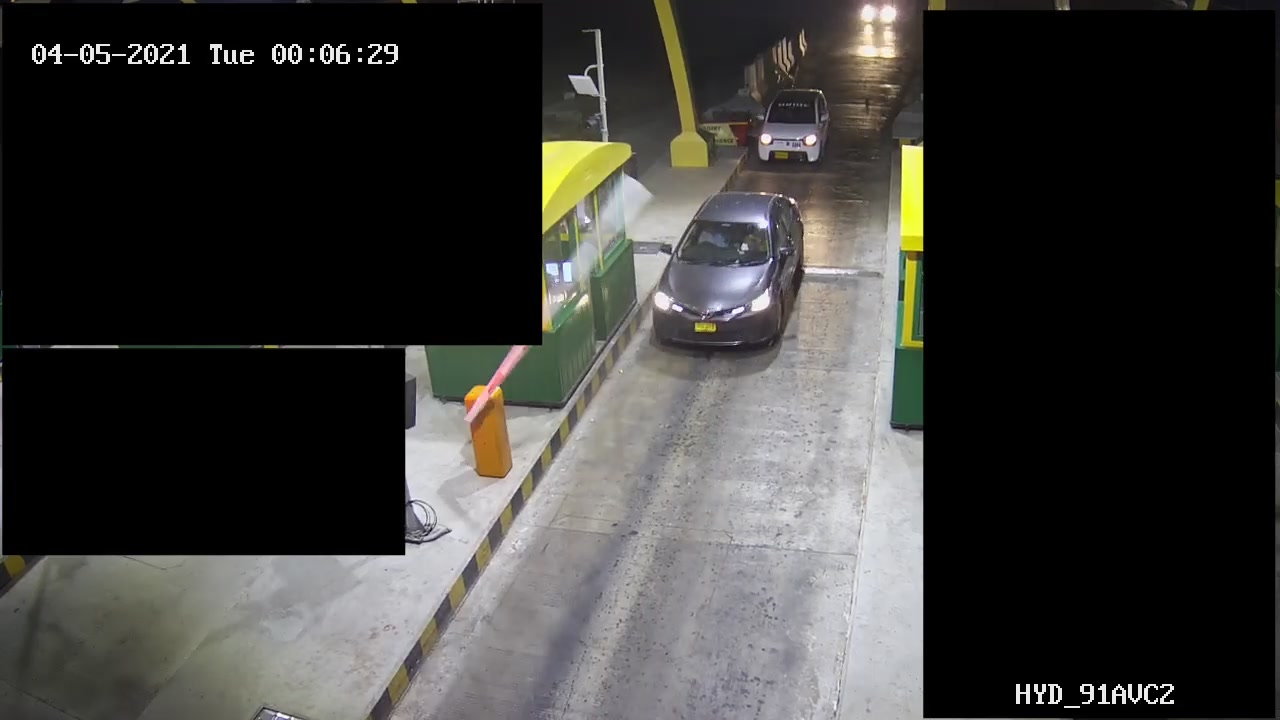F1: (646, 187, 807, 365), (743, 89, 840, 171)
